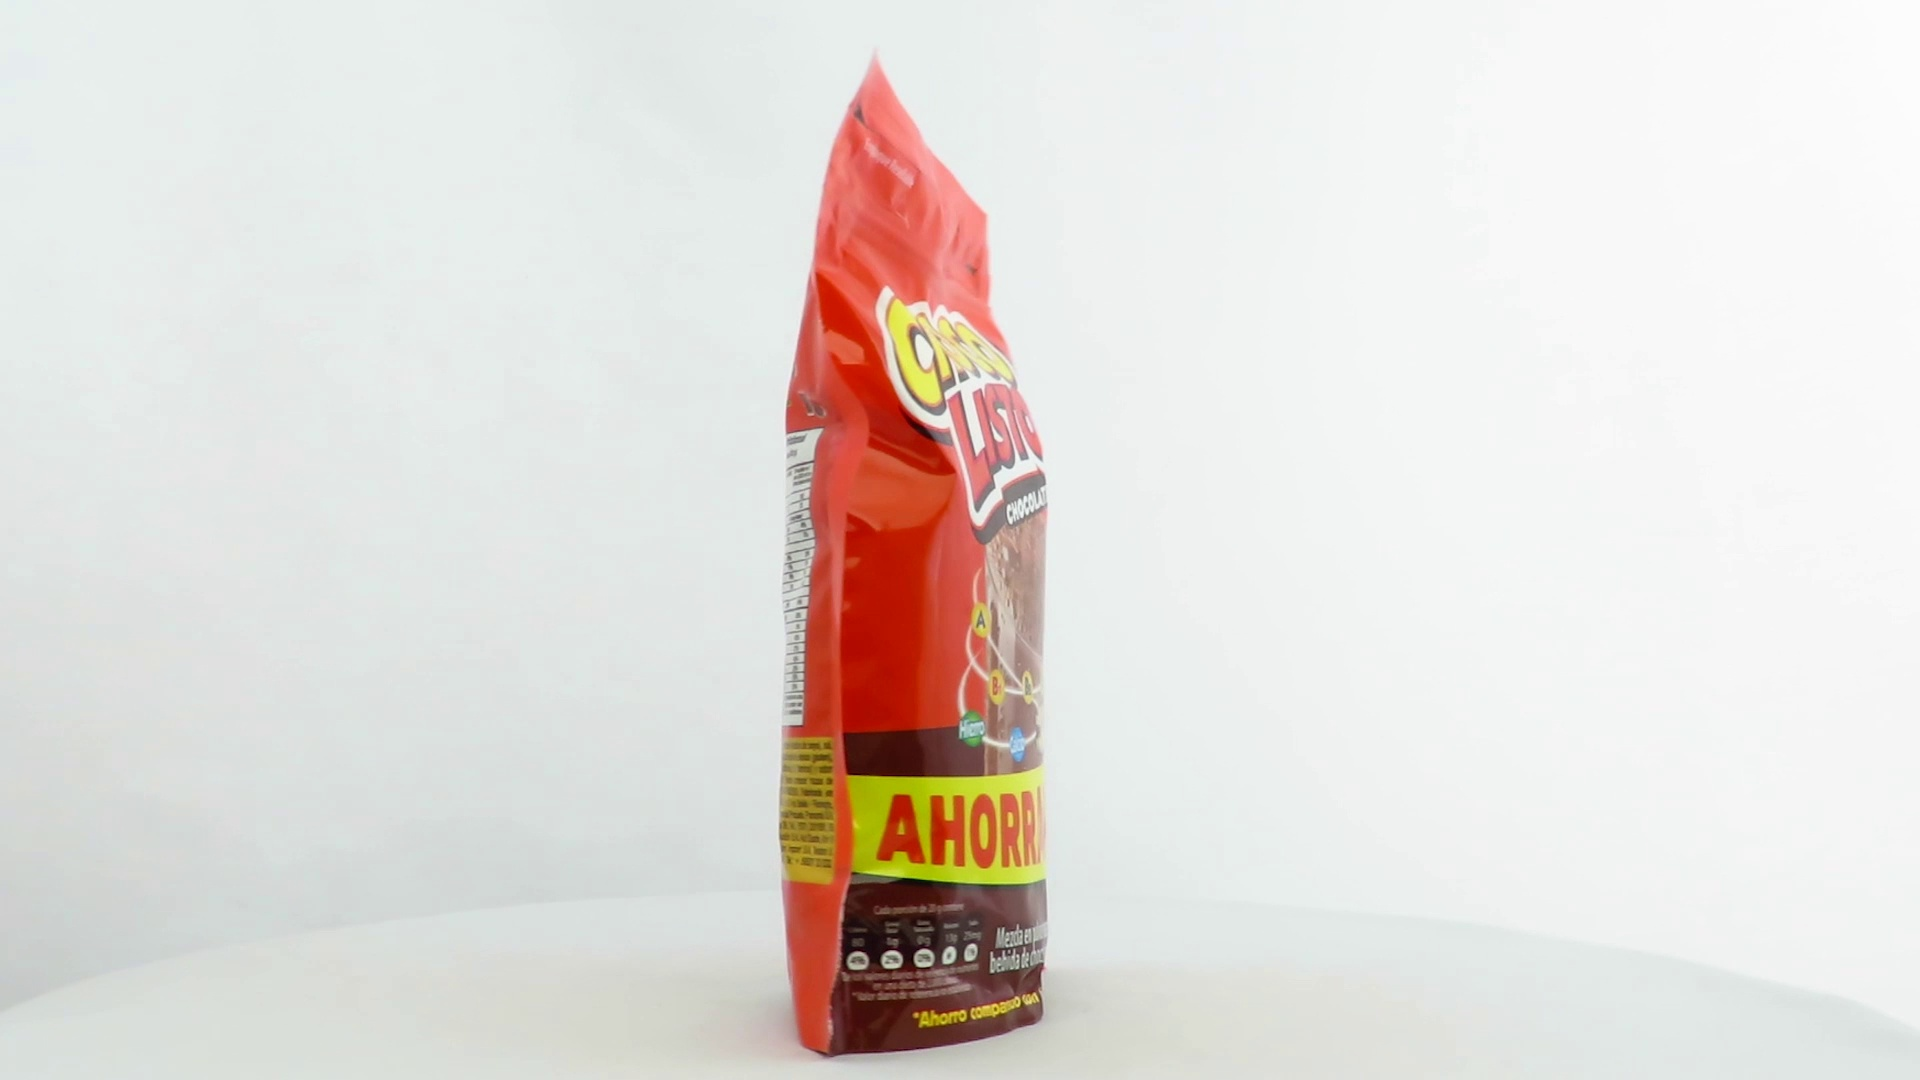COL0170103DYP40000: (773, 57, 1054, 992)
